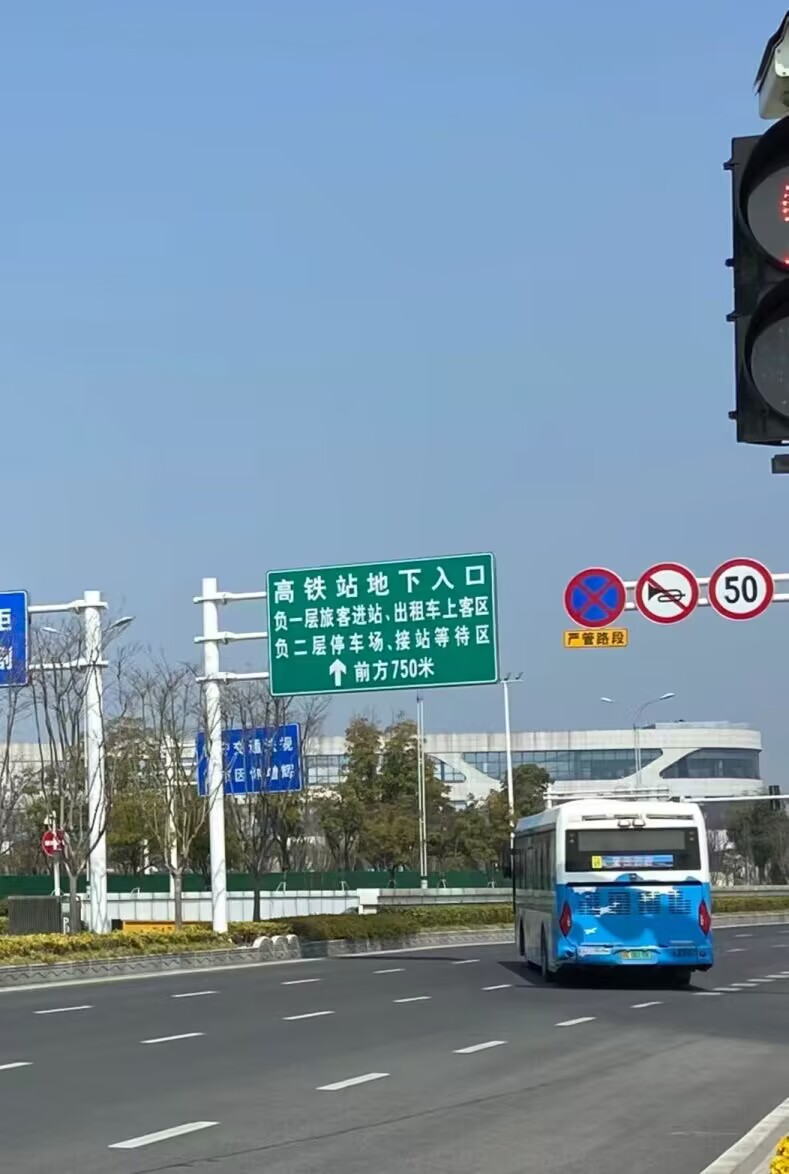p11: (639, 562, 699, 623)
pl50: (710, 552, 776, 623)
pn: (562, 566, 625, 626)
